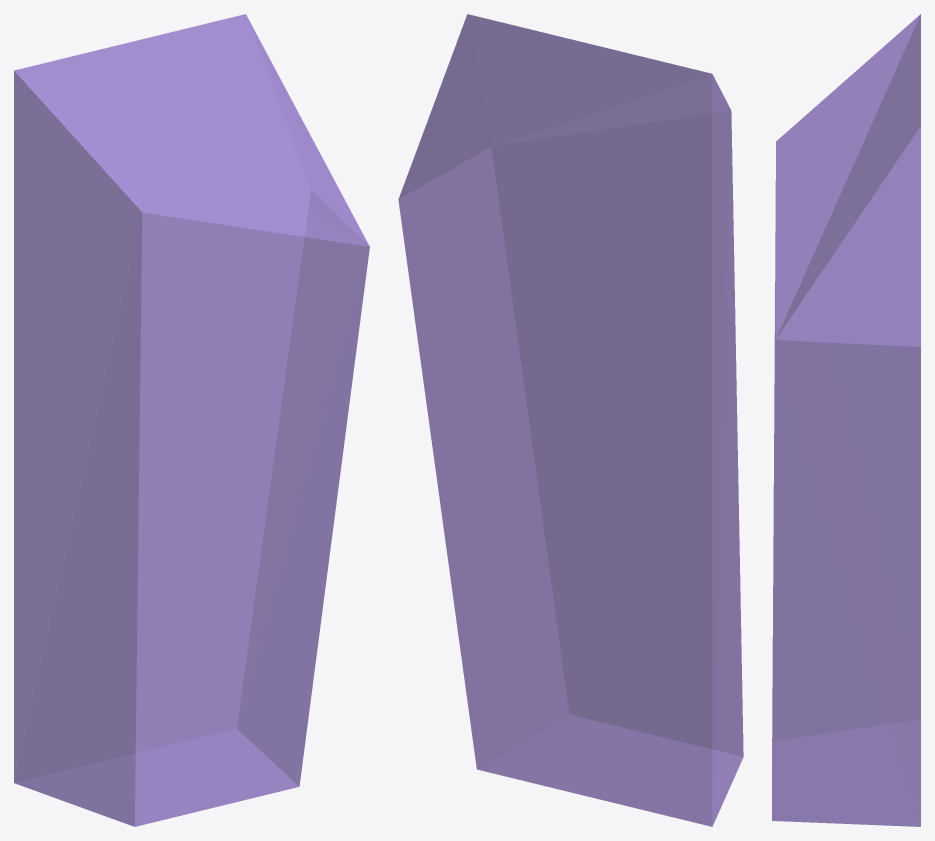
Rendered from Crystal_New_06.fbx.
3 renders of one model, left to right at view 1: azimuth 30°, elevation 25°; view 2: azimuth 150°, elevation 25°; view 3: azimuth 270°, elevation 25°, orthographic. The views are drawn at different scales.
Visible parts, largest first — view 1: Model; view 2: Model; view 3: Model.
Part boxes in pixels (x1,y1,x2,y2): Model: [14, 14, 369, 826]; Model: [398, 14, 743, 826]; Model: [772, 14, 920, 826].
Size of the model in its own units: 141 by 323 by 61.74.
